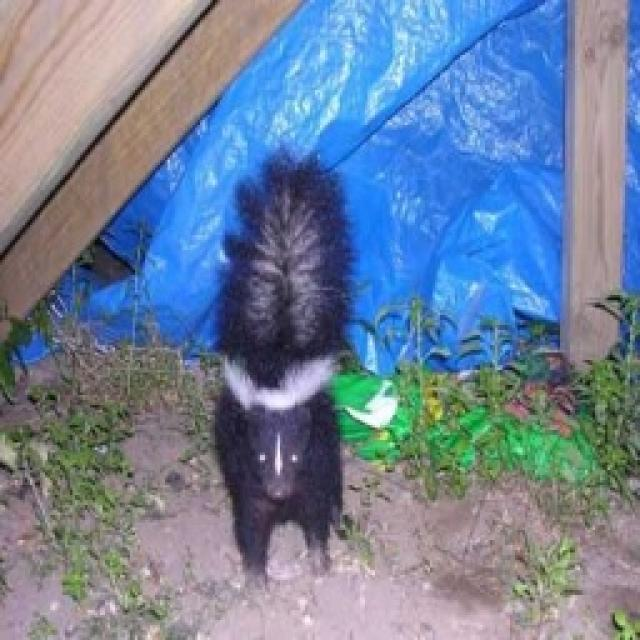not_pig: (210, 143, 358, 585)
